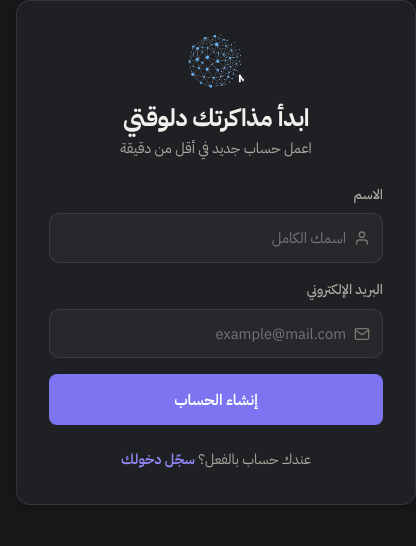
Test: Register › shows a pattern error for an invalid email
Type "طالب" into the field labelled "الاسم" at [204, 238], box [62,214,346,262]
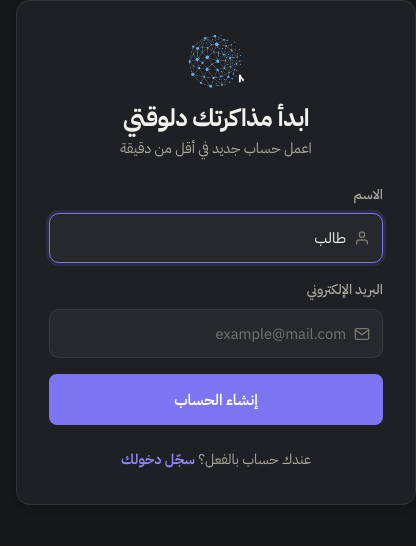
Type "not-an-email" into the field labelled "البريد الإلكتروني" at [204, 334], box [62,310,346,357]
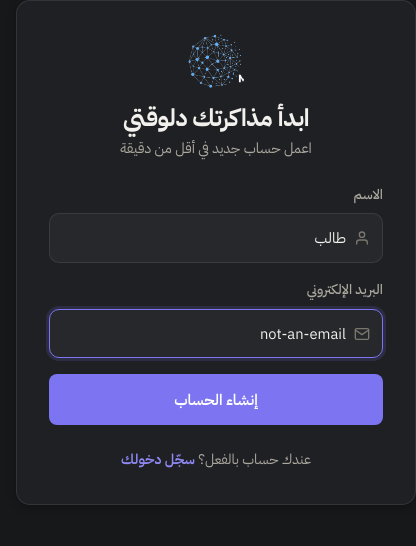
Click the button "إنشاء الحساب" at [216, 400], box [49,374,383,425]
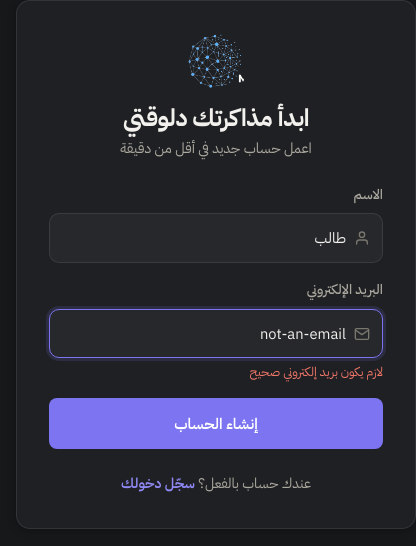
Check: the text "لازم يكون بريد إلكتروني صحيح" is shown, box [249,362,383,381]
